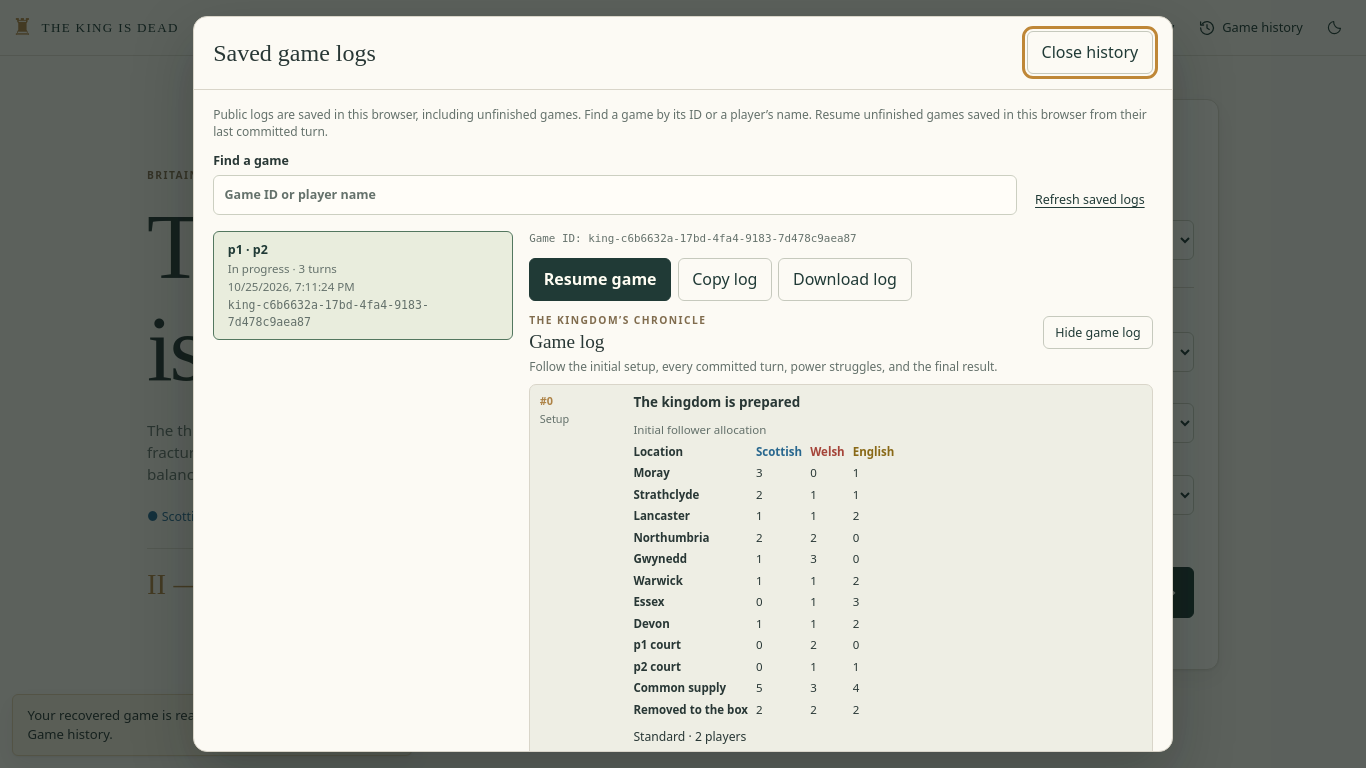
it: recovering an interrupted game › places a legacy server recovery into history without uploading a file
The width and height of the screenshot is (1366, 768).
Click the button "Resume game" at (600, 279), box [529,258,671,301]
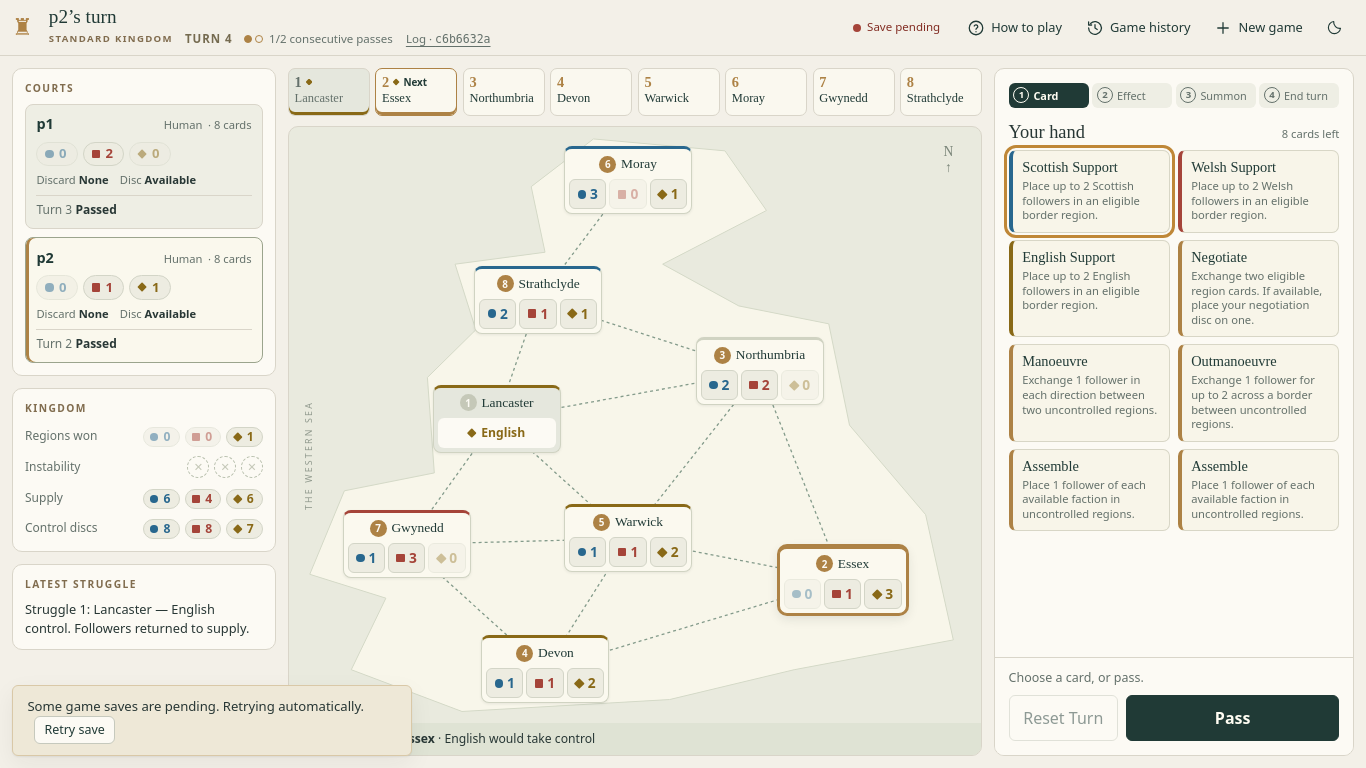
Expected: the text "TURN 4" is shown, [185,31,232,48]
